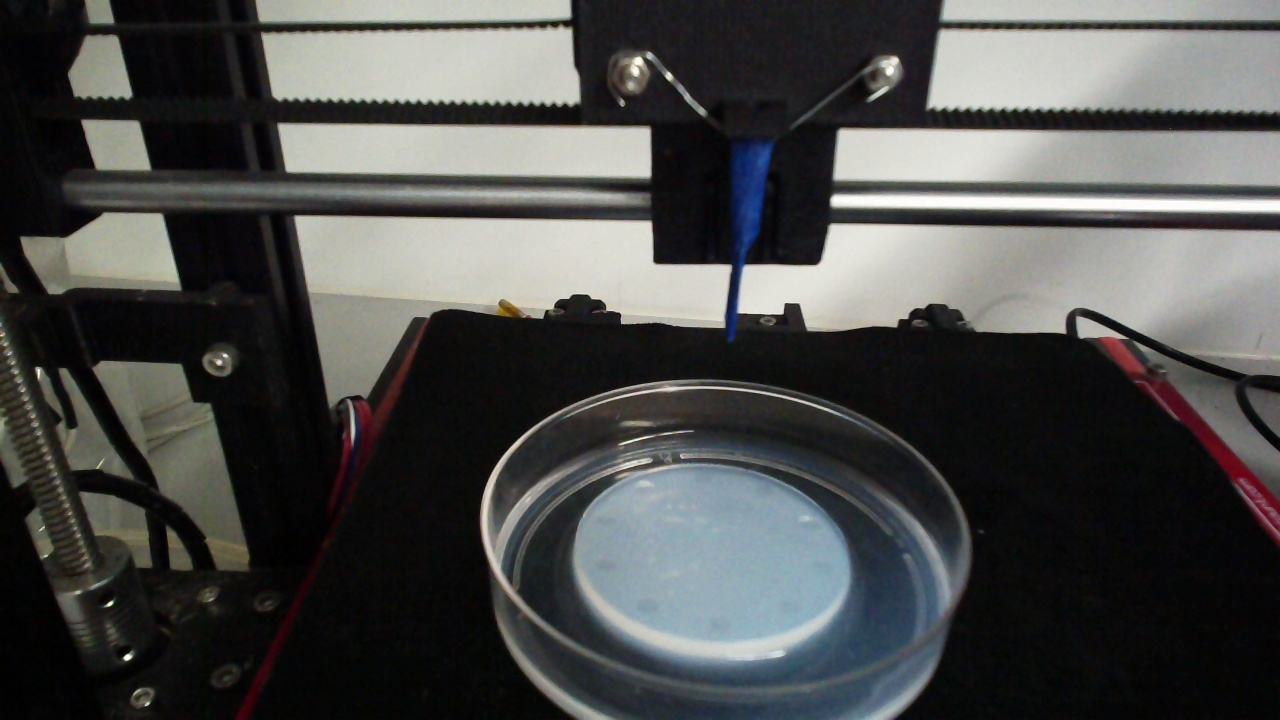groove: (795, 515, 823, 533), (633, 598, 659, 617), (707, 613, 732, 632), (752, 484, 777, 502), (691, 470, 717, 487), (593, 557, 617, 575), (777, 597, 801, 615), (807, 560, 832, 577), (633, 478, 655, 495), (595, 513, 617, 526)
needle: (725, 139, 771, 345)
